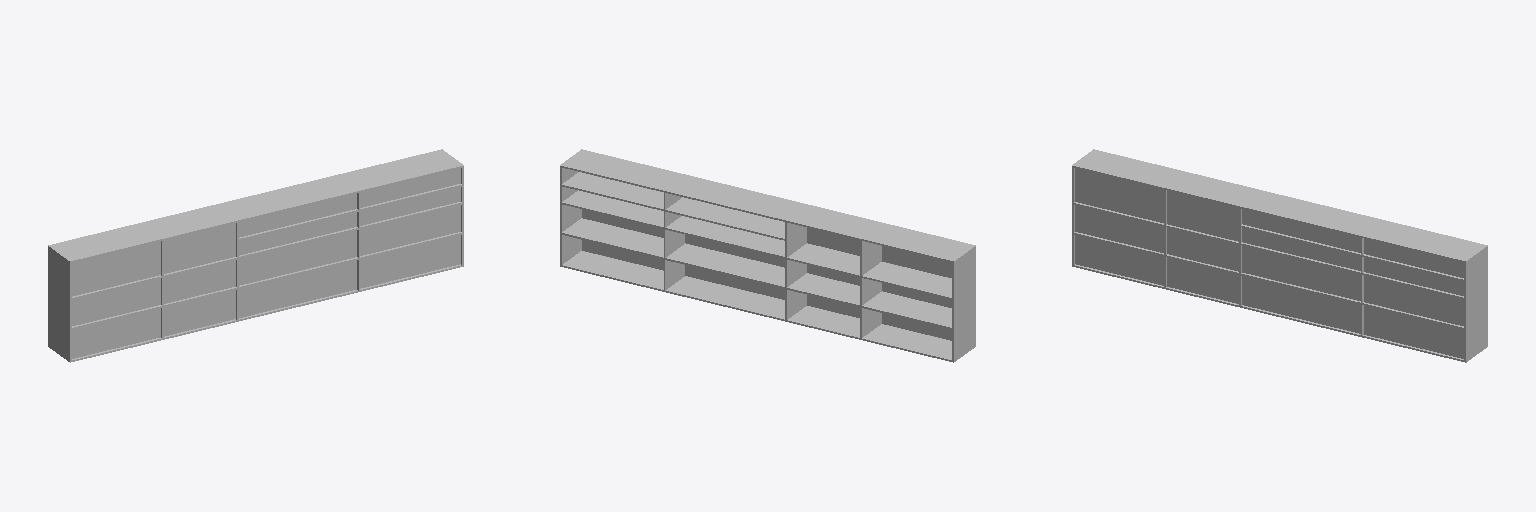
File: mueble.obj
3 views of the same model, side by side, from view 1: azimuth 30°, elevation 25°; view 2: azimuth 150°, elevation 25°; view 3: azimuth 330°, elevation 25° (orthographic).
Visible parts, largest first — view 1: group252 group250 group251 mueble:group226group220group219group1, mueble:group226group220group219group189group178group179group180g; view 2: group252 group250 group251 mueble:group226group220group219group1, mueble:group226group220group219group189group178group179group180g, group252 group250 group251 mueble:pasted__pasted__pasted__pasted; view 3: group252 group250 group251 mueble:group226group220group219group1, group252 group250 group251 mueble:pasted__pasted__pasted__pasted, mueble:group226group220group219group189group178group179group180g.
Boxes of the visible parts, x1,y1,x2,y2 form: group252 group250 group251 mueble:group226group220group219group1: [48, 149, 463, 362]; mueble:group226group220group219group189group178group179group180g: [238, 184, 462, 240]; group252 group250 group251 mueble:group226group220group219group1: [560, 149, 975, 362]; mueble:group226group220group219group189group178group179group180g: [561, 172, 785, 240]; group252 group250 group251 mueble:pasted__pasted__pasted__pasted: [560, 157, 581, 266]; group252 group250 group251 mueble:group226group220group219group1: [1072, 149, 1487, 362]; group252 group250 group251 mueble:pasted__pasted__pasted__pasted: [1464, 246, 1487, 361]; mueble:group226group220group219group189group178group179group180g: [1239, 224, 1464, 280].
Size of the model in its own units: 15.29 by 3.75 by 1.48.